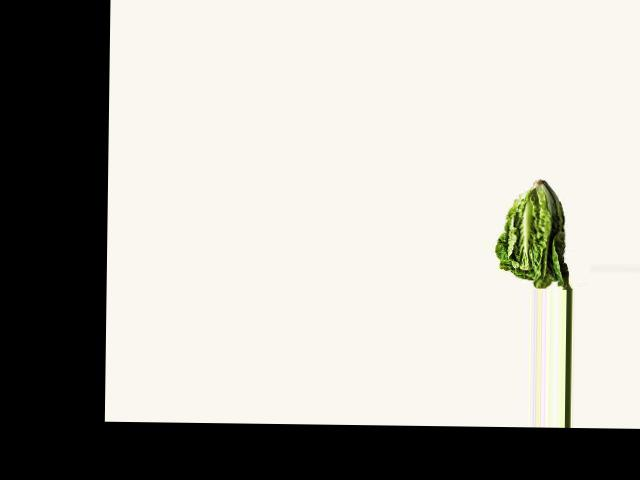lettuce: (491, 182, 570, 289)
